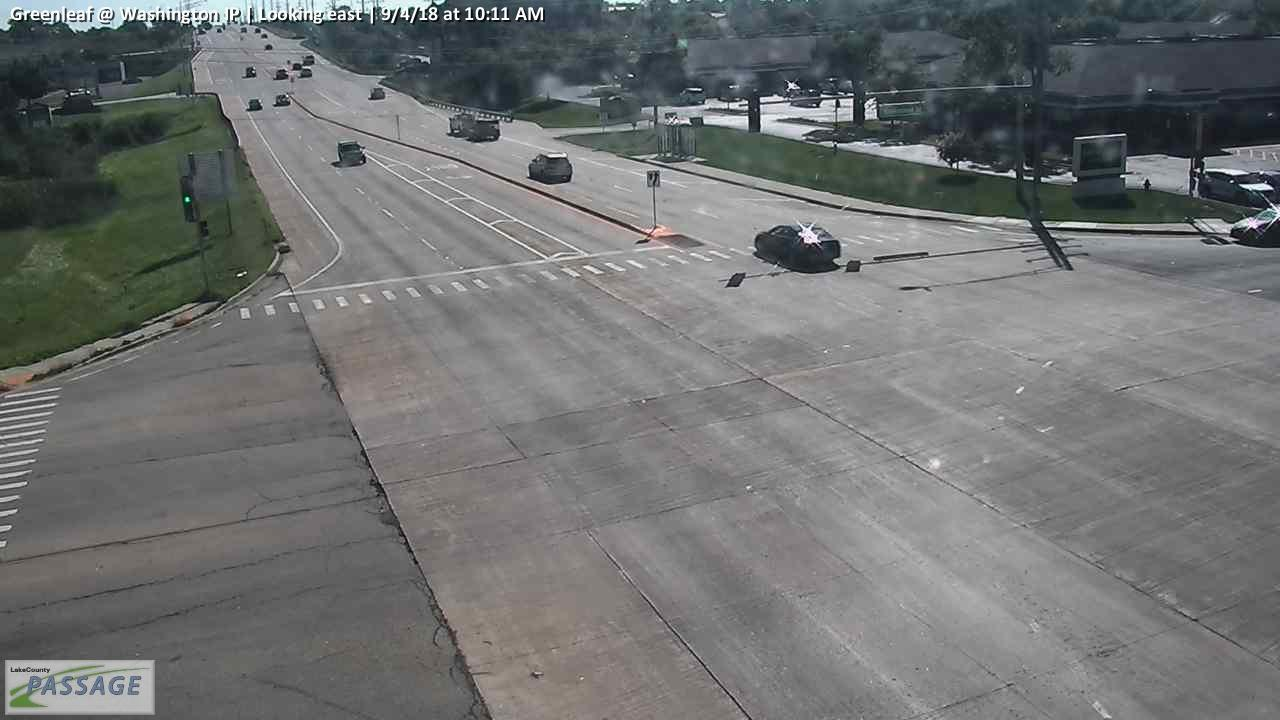SUV: (528, 152, 573, 183)
Sedan: (753, 222, 841, 271)
